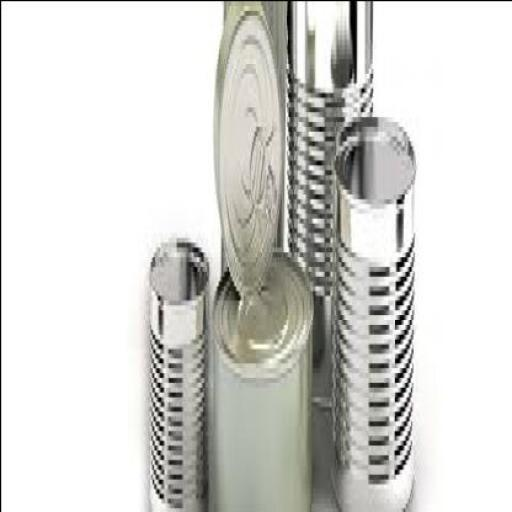metal: (286, 0, 372, 416), (332, 111, 416, 507), (211, 246, 315, 507), (212, 2, 284, 290), (149, 227, 209, 508)
